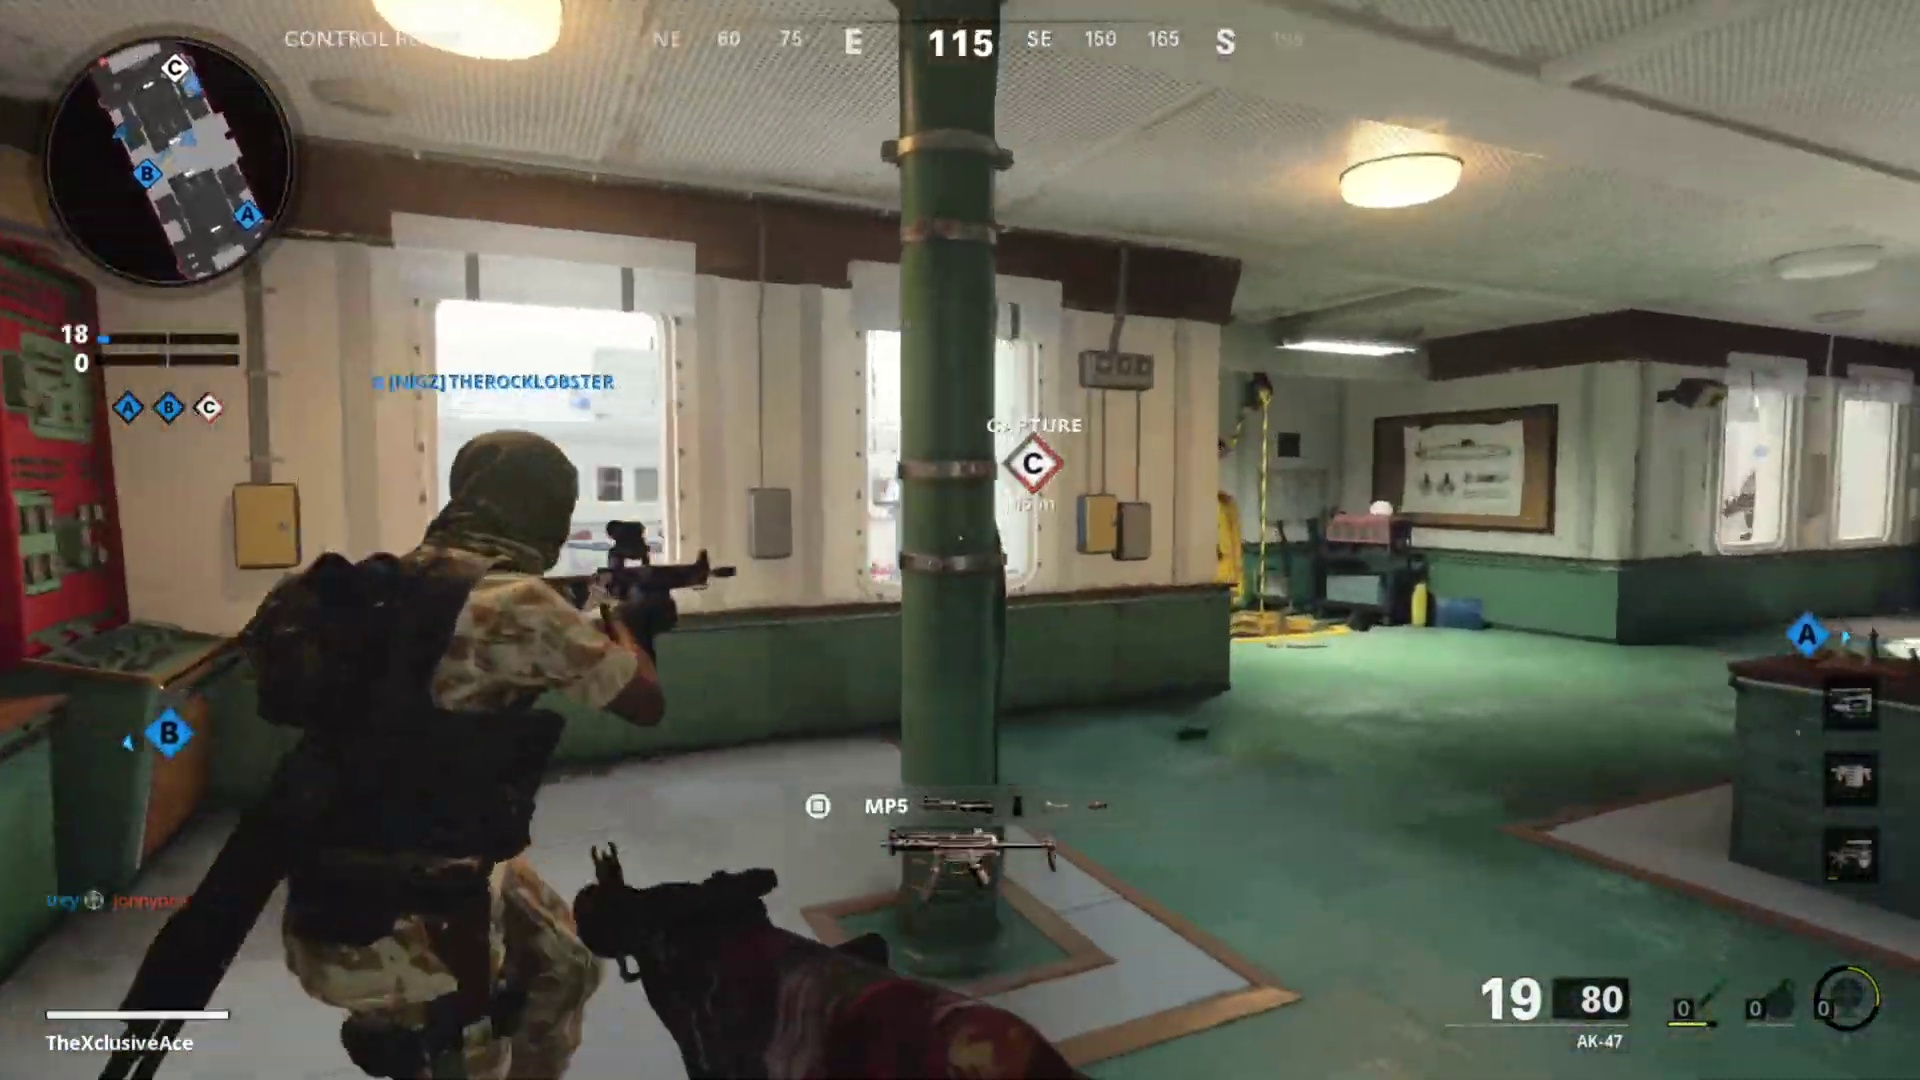head: (403, 415, 592, 609)
person: (224, 440, 678, 1067)
